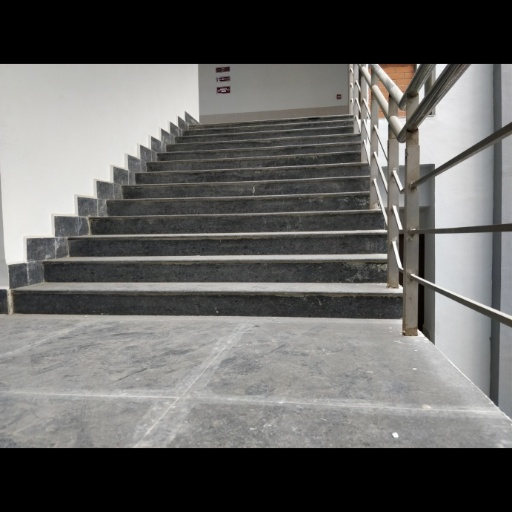Stairs: (13, 115, 402, 318)
